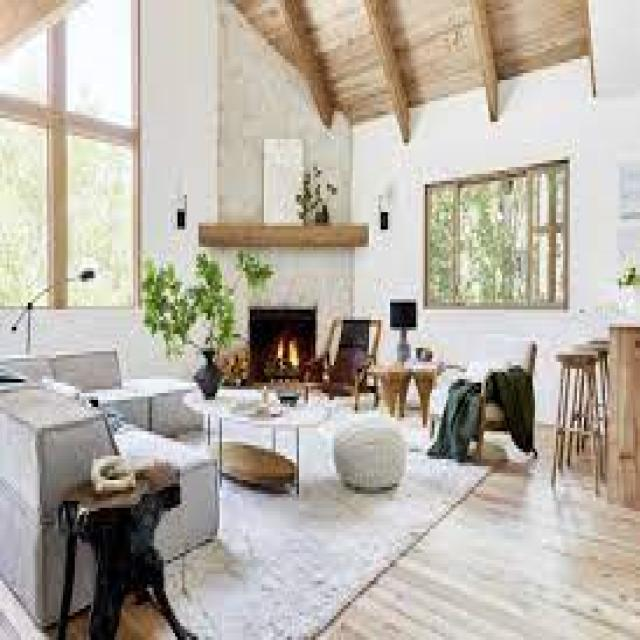Chair: (299, 298, 385, 419), (547, 341, 605, 497)
Lamp: (384, 289, 422, 357), (159, 166, 195, 230), (369, 183, 394, 241)
Sofa: (0, 327, 221, 569)
Table: (66, 472, 195, 640), (185, 380, 314, 492), (611, 311, 640, 519), (379, 350, 452, 415)
